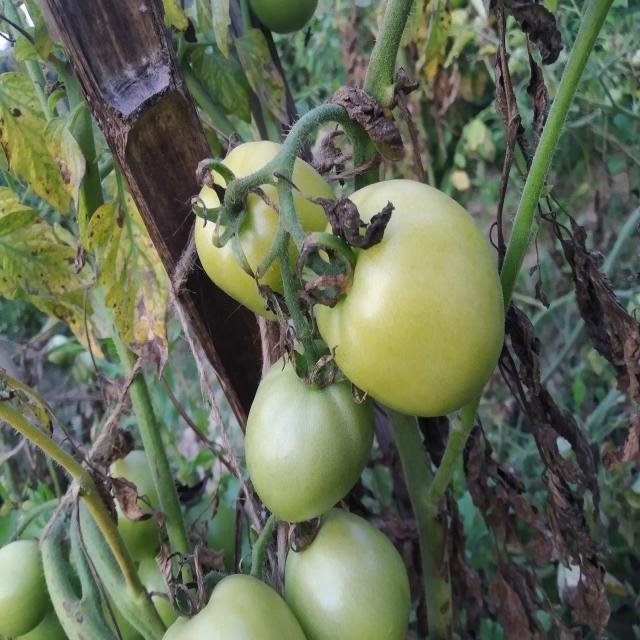Unripe: (312, 178, 506, 418), (244, 345, 374, 523), (282, 507, 412, 640)
